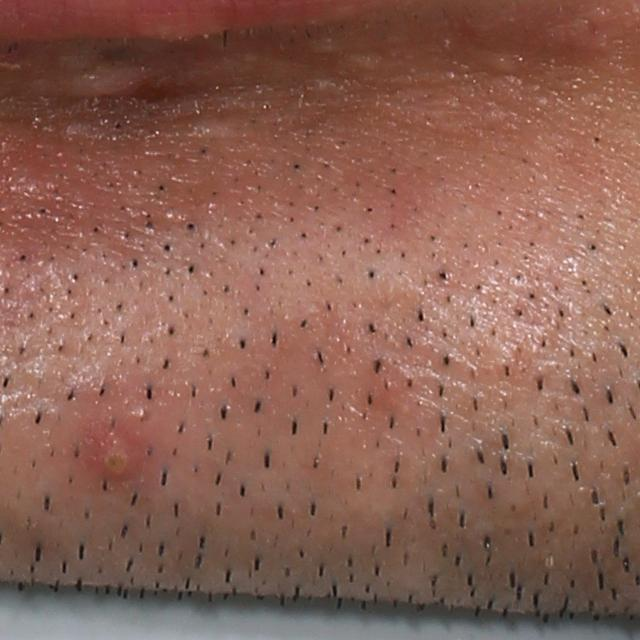hypertrophic_scar: (149, 45, 339, 89), (53, 63, 150, 103), (188, 112, 266, 141), (349, 54, 393, 75), (477, 52, 521, 71)
pustule: (84, 419, 140, 480)
